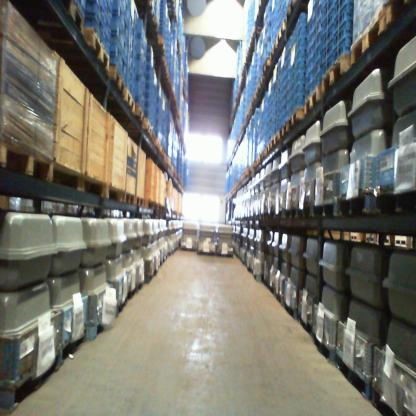pallet: (1, 344, 61, 415), (0, 140, 52, 184), (335, 345, 372, 400), (350, 10, 385, 65), (372, 382, 415, 416), (59, 323, 88, 367), (83, 27, 110, 72), (320, 54, 350, 94), (372, 188, 416, 214), (88, 306, 118, 340), (51, 160, 82, 192), (58, 0, 84, 36), (338, 189, 372, 216), (312, 330, 336, 365), (386, 0, 415, 25), (109, 64, 126, 97), (82, 175, 105, 196), (304, 85, 320, 114), (287, 107, 305, 131), (311, 203, 338, 217), (298, 312, 312, 336), (106, 185, 124, 202), (285, 0, 297, 23), (117, 293, 128, 317), (125, 88, 135, 114), (276, 21, 286, 46), (284, 302, 298, 319), (135, 104, 146, 123), (296, 205, 311, 218), (142, 118, 152, 136), (124, 191, 135, 205), (278, 122, 287, 139), (262, 59, 271, 76), (274, 290, 284, 303), (270, 43, 277, 61), (144, 198, 154, 209), (285, 208, 296, 218), (271, 133, 278, 148), (136, 196, 144, 206), (265, 142, 271, 155), (155, 138, 161, 150), (259, 149, 265, 161), (259, 75, 264, 88), (160, 146, 165, 157), (269, 286, 275, 295), (151, 132, 155, 143), (254, 275, 260, 282), (265, 282, 270, 289)
small_load_carrier: (85, 12, 103, 43), (85, 0, 103, 30), (111, 15, 122, 45), (111, 34, 122, 63), (113, 0, 123, 24), (103, 12, 110, 41), (120, 47, 127, 76), (102, 30, 110, 55), (103, 0, 111, 23), (122, 11, 128, 40), (121, 31, 128, 55), (122, 0, 129, 19), (106, 0, 111, 8)
